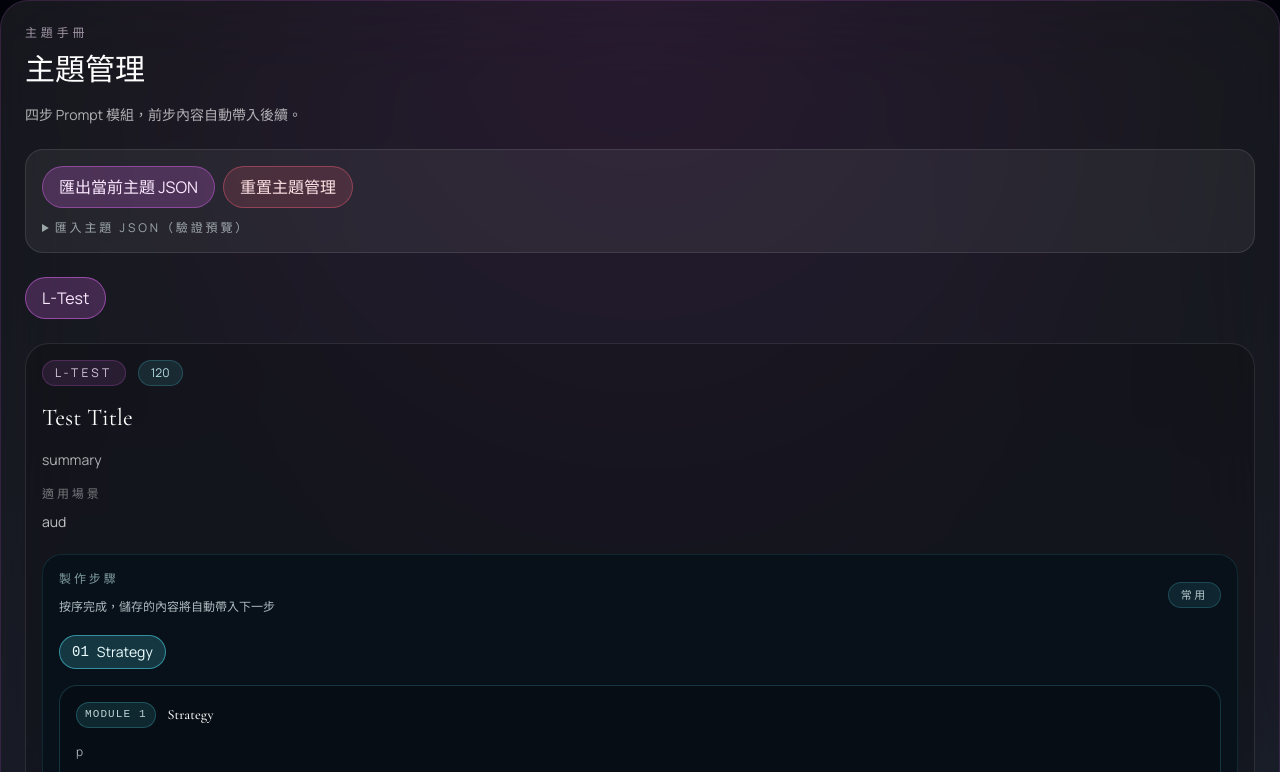
ThemeProgramPanel — 匯出 / 匯入工具列 › 點擊「驗證」壞 JSON → 顯示錯誤橫幅,不顯示預覽
The width and height of the screenshot is (1280, 772).
Click the heading "匯入主題 JSON（驗證預覽）" at (152, 228), box [55,219,250,236]
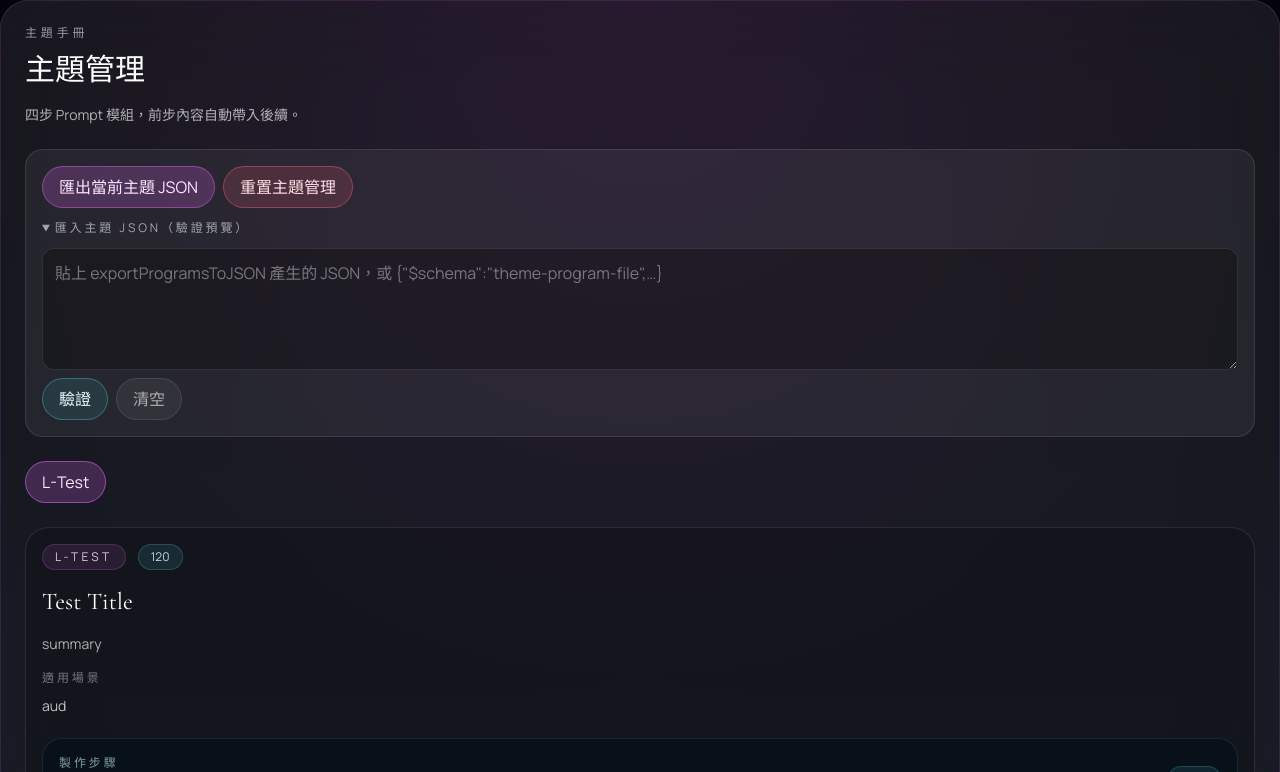
Replace the text in the text box with test id "tpp-import-draft" with "not valid json" at (640, 309), box [42,248,1238,370]
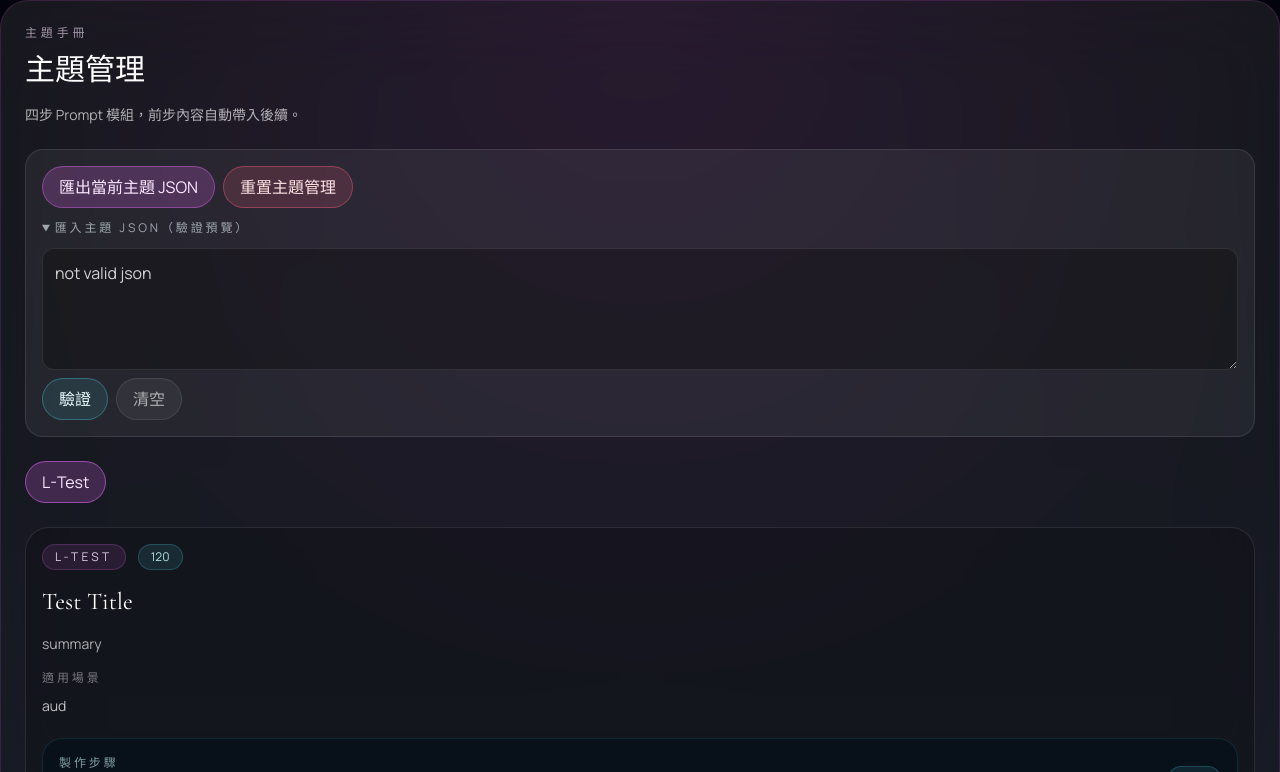
Click the button with test id "tpp-import-validate" at (75, 399), box [42,378,108,420]
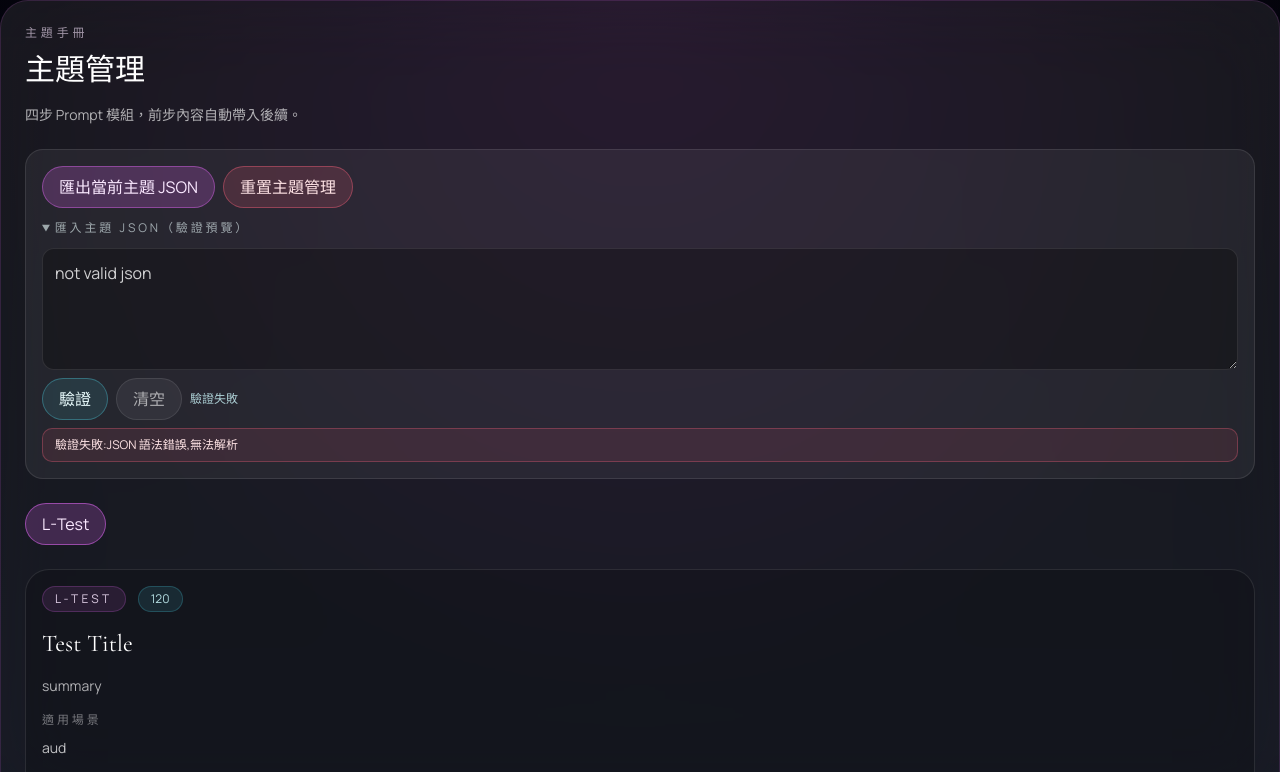
Expected: the text with test id "tpp-import-error" shows "JSON", [107,436,238,453]
